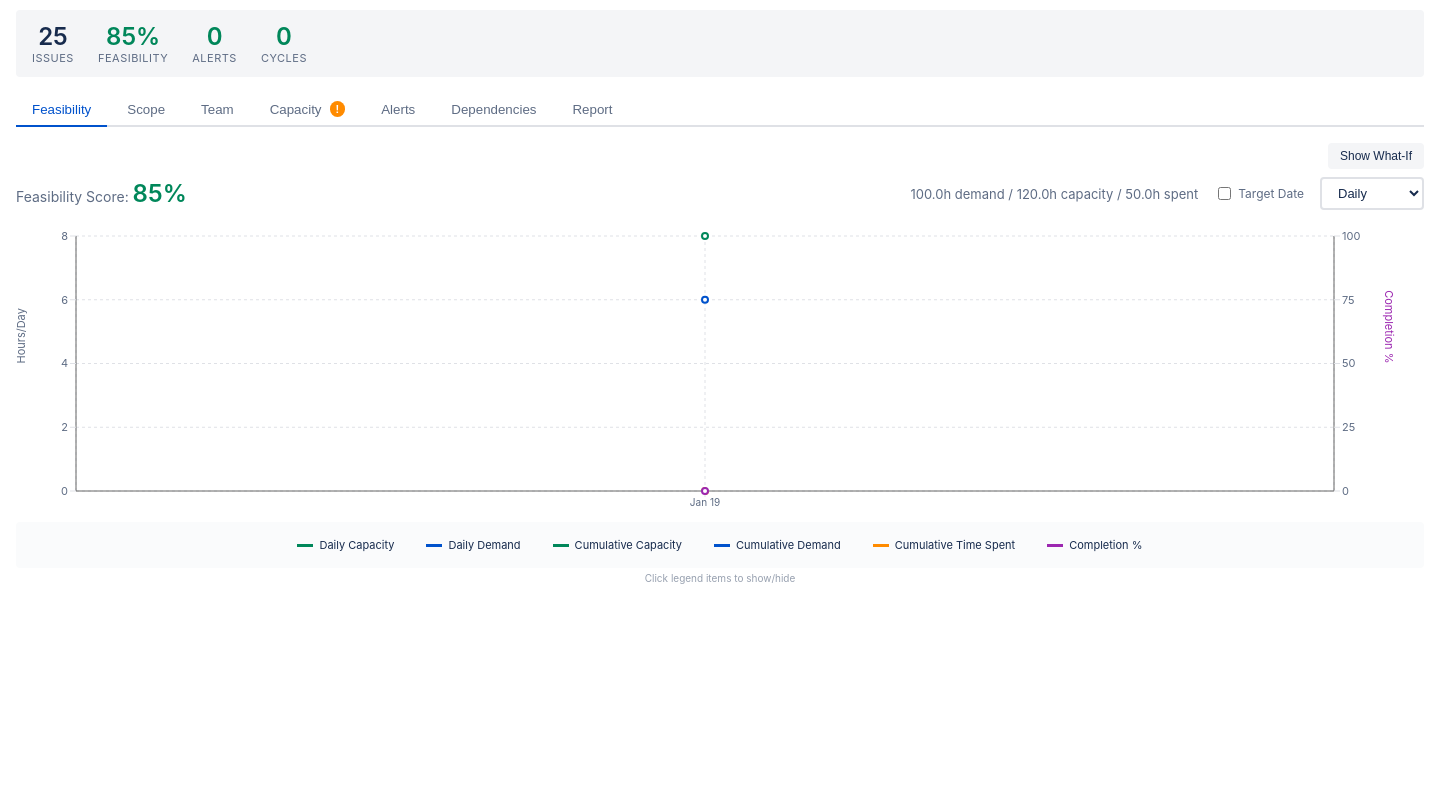
What-If Scenarios › shows scenario indicator when scenarios are applied
Open What-If panel
Click the button "Show What-If": (1376, 156) [1328,143,1424,169]
(page scrolled)
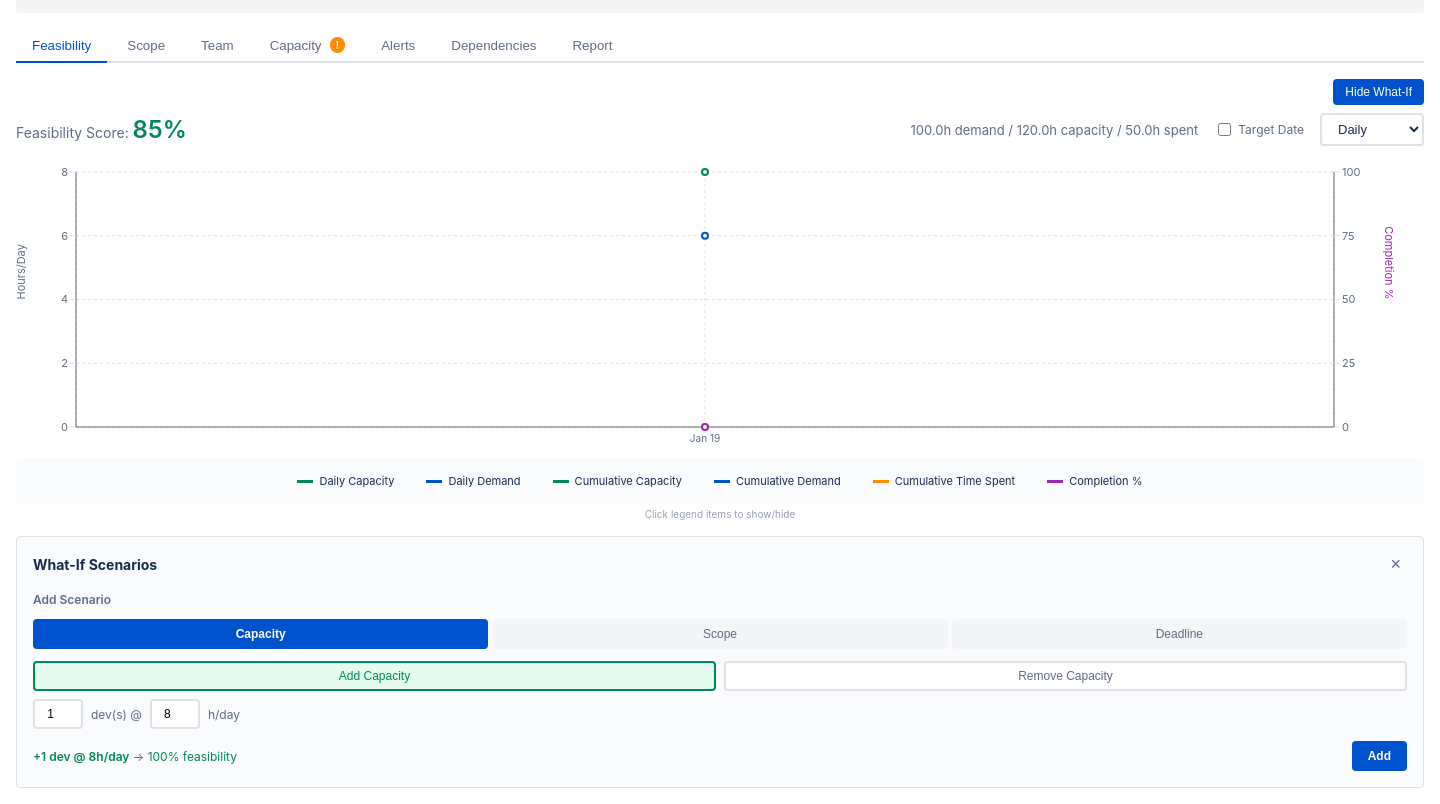
Add a scenario by clicking the Add button
Click the button "Add": (1379, 756) [1352,741,1407,771]
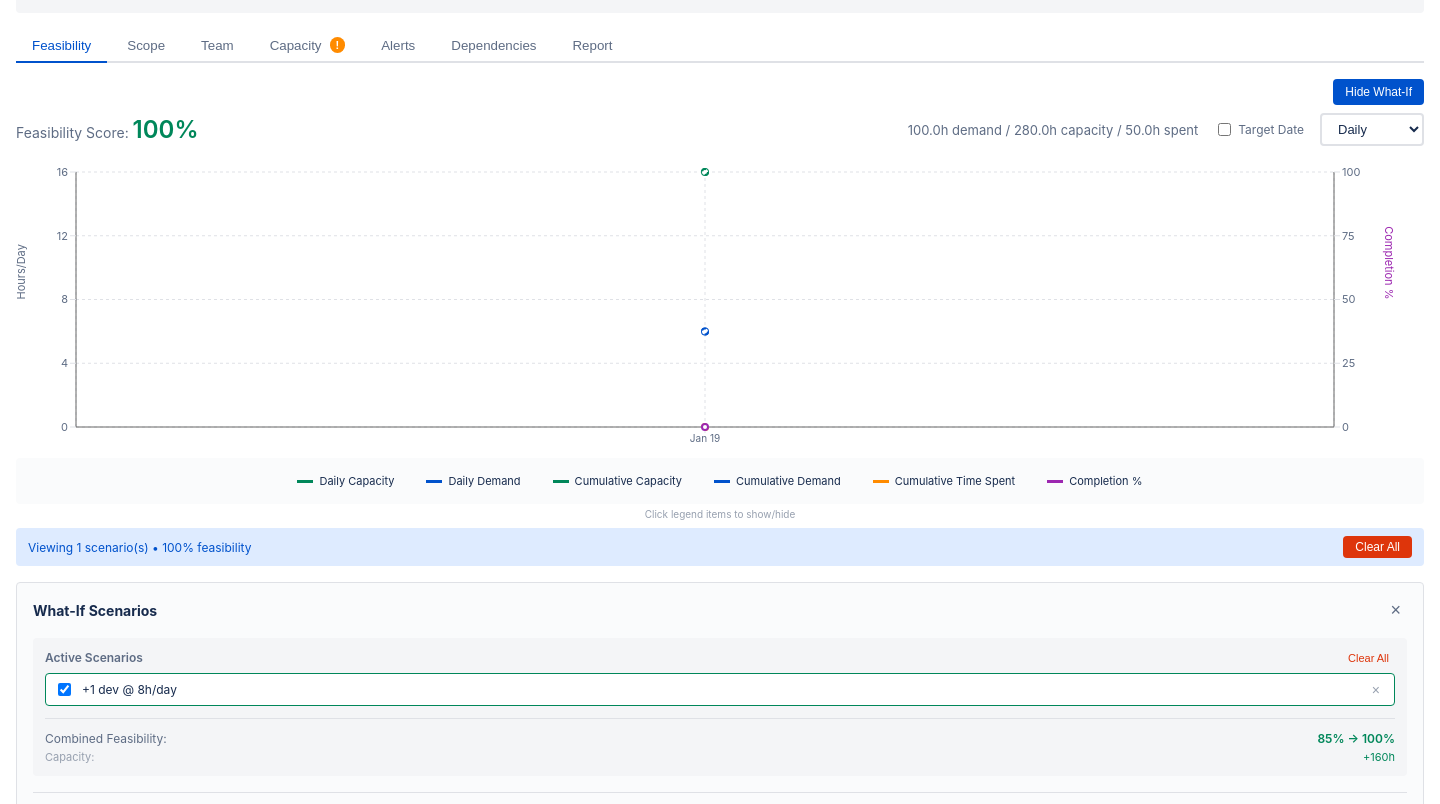
Expected: the text "Viewing 1 scenario(s) • 100% feasibility" is shown, [28,540,252,554]
